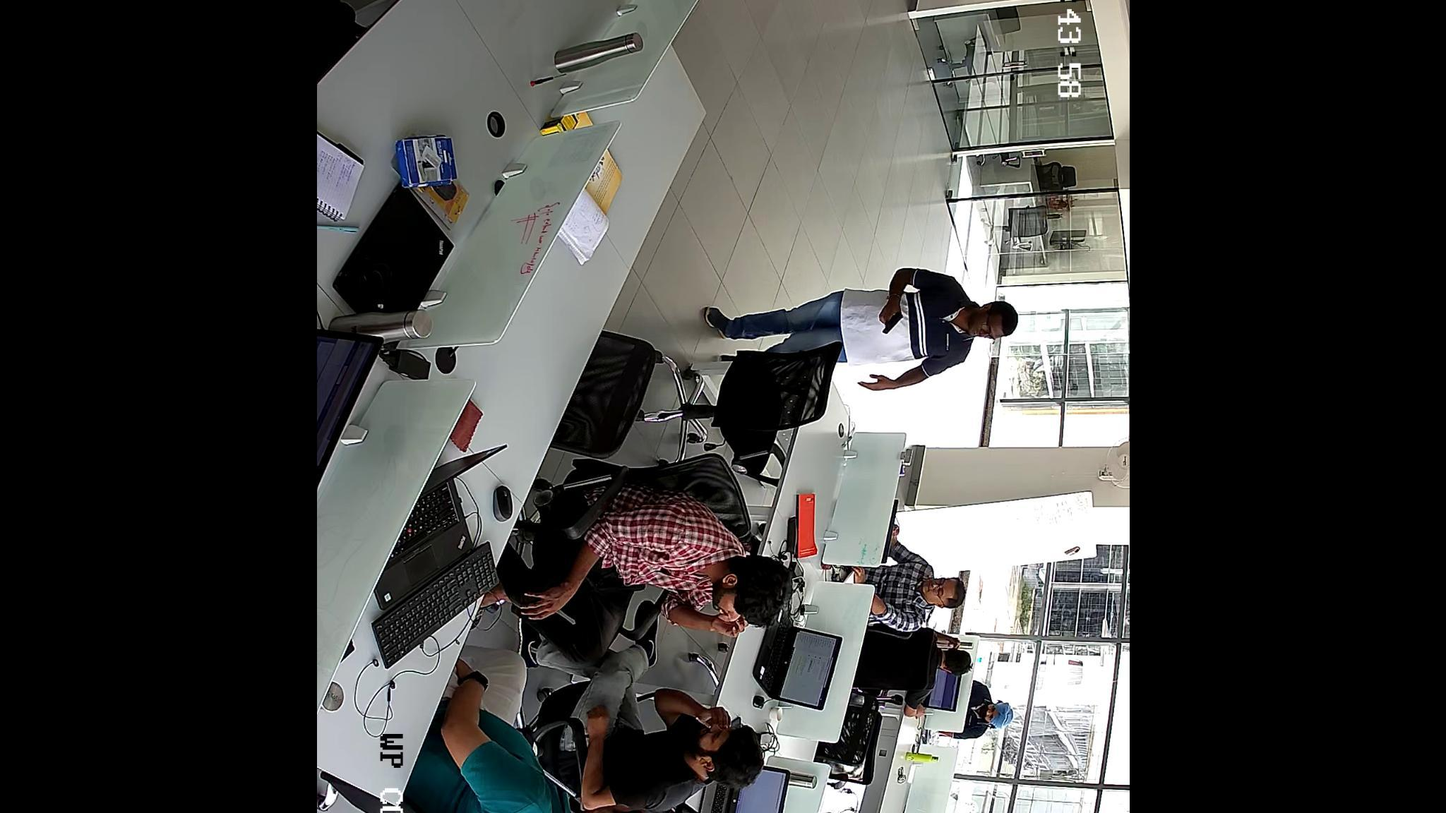gun: (879, 311, 902, 333)
